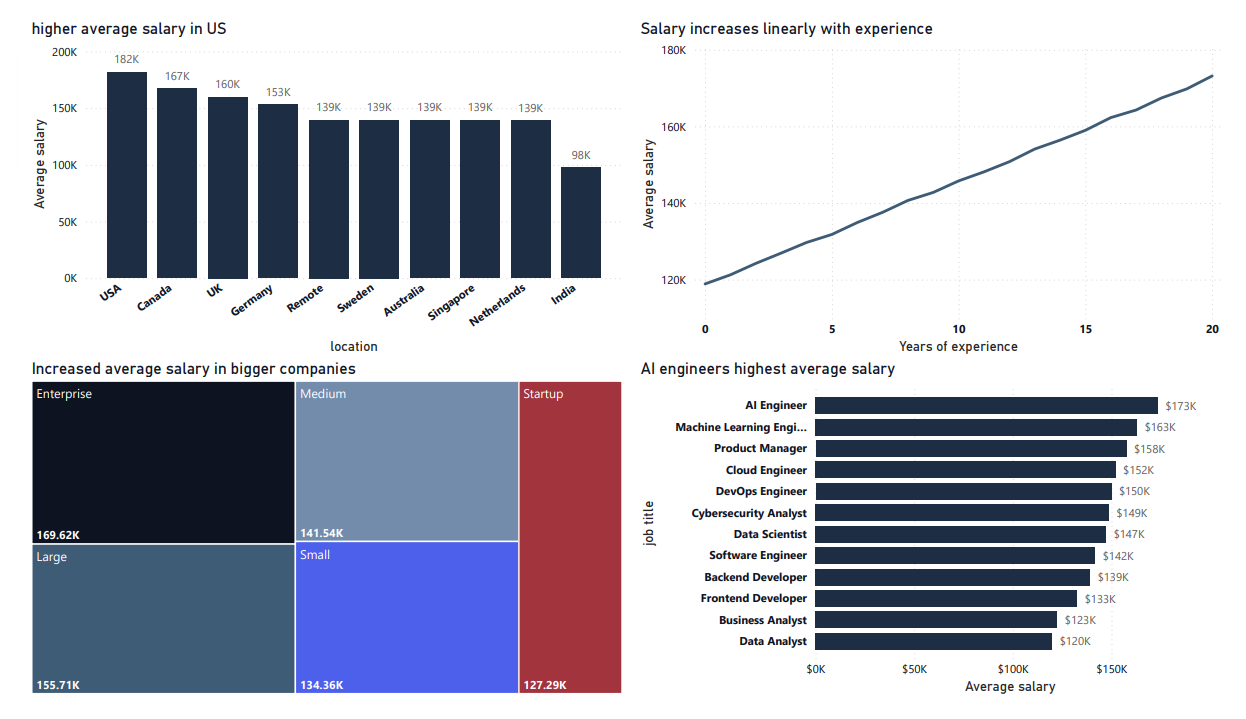

Layout of this report page (visuals, bound fields, positions):
{"tool":"powerbi","page":{"name":"Salary drivers","canvas":[1280,720],"ordinal":1},"visuals":[{"type":"treemap","title":"Increased average salary in bigger companies","fields":{"Group":["cleaned_jobs_salary.company_size"],"Values":["Avg(cleaned_jobs_salary.salary)"]},"box":[9.7,359.9,635.1,359.9],"z":0},{"type":"clusteredColumnChart","title":"higher average salary in US","fields":{"Category":["cleaned_jobs_salary.location"],"Y":["Avg(cleaned_jobs_salary.salary)"]},"box":[9.7,0,635.1,359.9],"z":1000},{"type":"lineChart","title":"Salary increases linearly with experience","fields":{"Category":["cleaned_jobs_salary.experience_years"],"Y":["Avg(cleaned_jobs_salary.salary)"]},"box":[655,0,625,360],"z":2000},{"type":"clusteredBarChart","title":"AI engineers highest average salary","fields":{"Category":["cleaned_jobs_salary.job_title"],"Y":["Avg(cleaned_jobs_salary.salary)"]},"box":[655,360,625,360],"z":3000}]}

Visuals, with their boxes in screenshot pixels (x1, y1, x2, y2), scaled from the page's 1280x720 canvas onto the 1246x719 screenshot:
"Increased average salary in bigger companies" treemap: <box>9,359,628,718</box>
"higher average salary in US" clusteredColumnChart: <box>9,0,628,359</box>
"Salary increases linearly with experience" lineChart: <box>638,0,1245,360</box>
"AI engineers highest average salary" clusteredBarChart: <box>638,360,1245,718</box>
